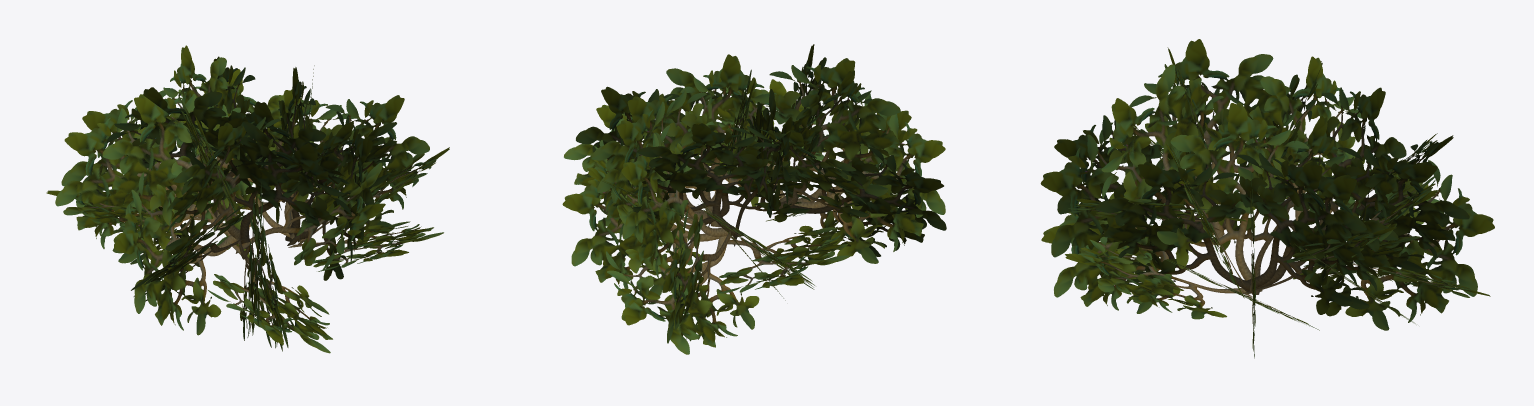
File: bush.obj
The picture shows the model from 3 angles, left to right: view 1: azimuth 30°, elevation 25°; view 2: azimuth 150°, elevation 25°; view 3: azimuth 270°, elevation 25°; orthographic projection. The views are drawn at different scales.
Visible parts, largest first — view 1: BUSH.001; view 2: BUSH.001; view 3: BUSH.001.
Part boxes in pixels (x1,y1,x2,y2): BUSH.001: [46, 45, 449, 353]; BUSH.001: [562, 44, 946, 354]; BUSH.001: [1040, 39, 1494, 358].
Bounding box in the file's own units: 1.9 × 1.2 × 1.83.
